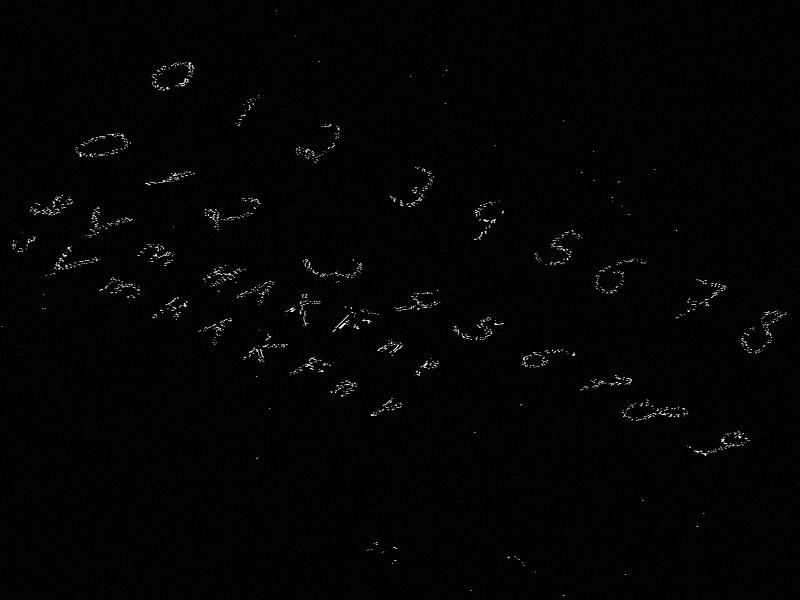0: (67, 120, 142, 171), (139, 52, 206, 98)
1: (135, 154, 202, 199), (218, 88, 272, 129)
2: (190, 185, 267, 238), (284, 116, 357, 169)
3: (292, 240, 373, 291), (378, 161, 450, 213)
4: (447, 193, 518, 246), (386, 279, 453, 324)
5: (523, 223, 594, 273), (445, 306, 509, 348)
6: (578, 247, 654, 301), (512, 336, 580, 381)
7: (655, 271, 734, 328), (572, 363, 637, 406)
8: (611, 381, 700, 439), (723, 302, 800, 361)
9: (676, 416, 758, 471), (787, 330, 800, 385)
A: (191, 311, 241, 348), (234, 273, 284, 309)
F: (283, 352, 335, 388), (325, 308, 376, 344)
H: (197, 257, 249, 295), (149, 292, 195, 327)
V: (34, 242, 105, 290), (67, 202, 136, 248)
k: (237, 330, 294, 371), (275, 290, 332, 329)
m: (127, 238, 184, 273), (93, 273, 149, 307)
n: (324, 375, 361, 401), (372, 335, 408, 361)
p: (365, 394, 407, 425), (407, 354, 445, 383)
u: (15, 183, 82, 229), (0, 226, 45, 258)
